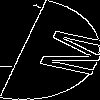M: (25, 25, 100, 78)
